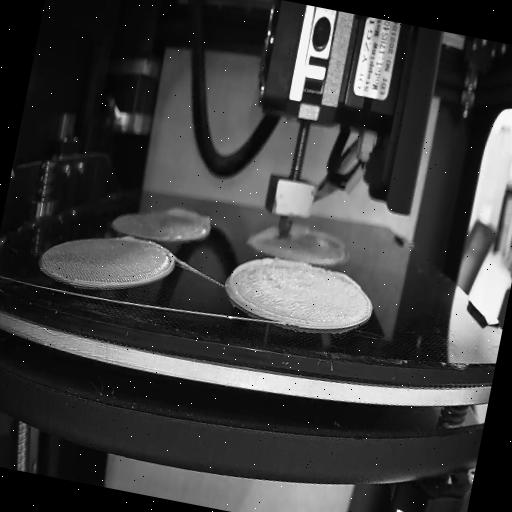over_extrusion: (223, 250, 279, 316), (164, 202, 217, 231), (324, 266, 364, 290), (251, 220, 280, 248), (290, 220, 312, 237), (118, 232, 138, 248)
